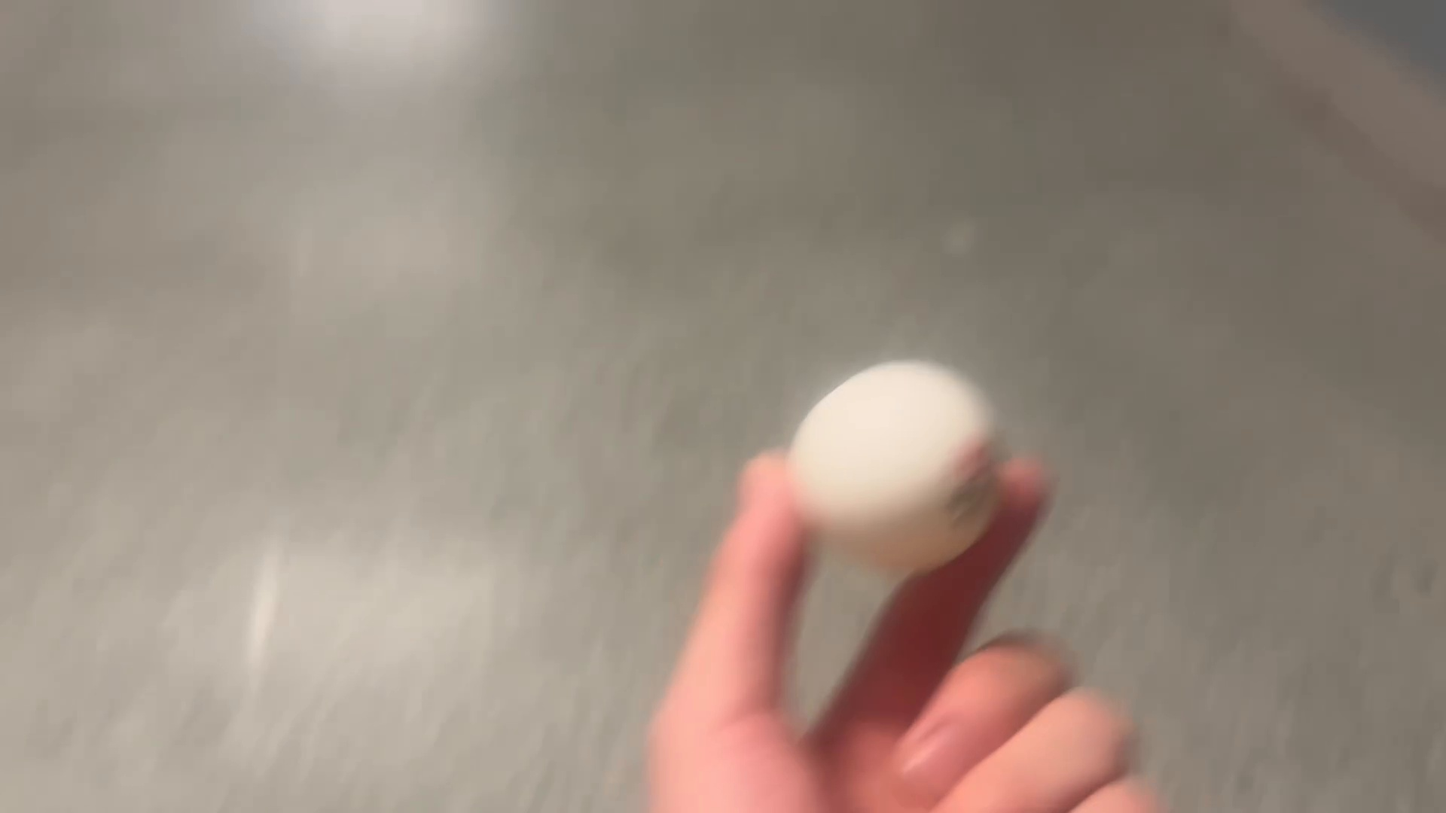Ball: (775, 356, 1029, 574)
